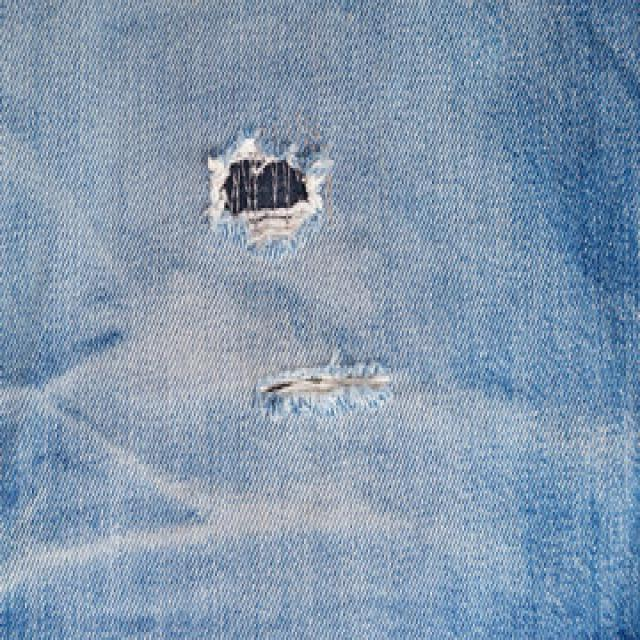Hole: (204, 129, 333, 257), (253, 350, 393, 418)
